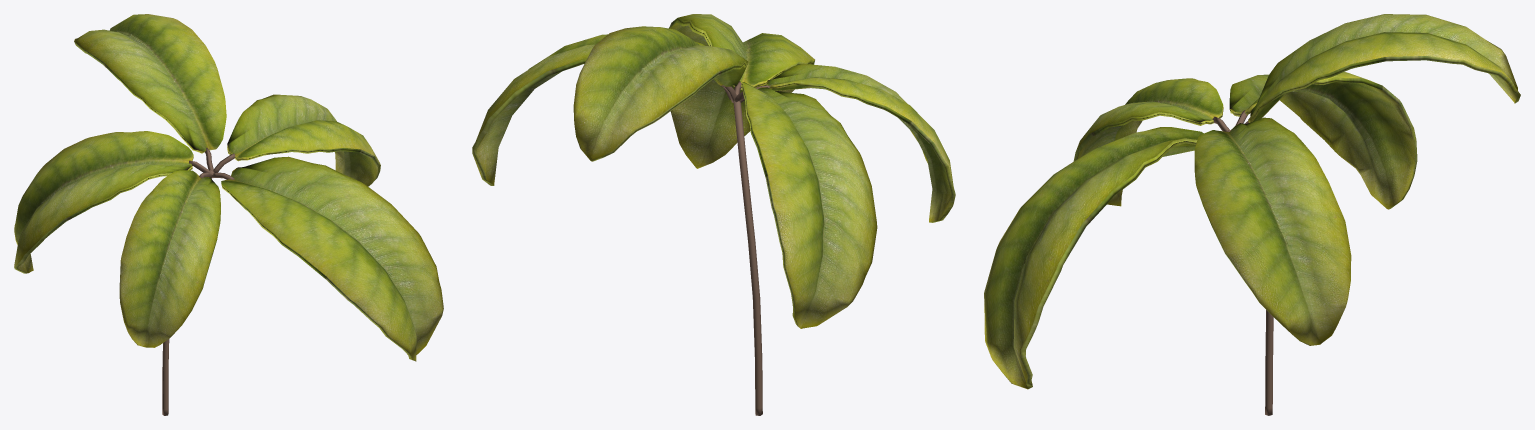
File: Plant1.fbx
The picture shows the model from 3 angles, left to right: view 1: azimuth 30°, elevation 25°; view 2: azimuth 150°, elevation 25°; view 3: azimuth 270°, elevation 25°; orthographic projection. The views are drawn at different scales.
Parts seen in each view (by area): view 1: Cylinder, Cylinder_002, Cylinder_004, Cylinder_003, Cylinder_005, Cylinder_001, Cylinder_006; view 2: Cylinder_003, Cylinder_004, Cylinder, Cylinder_002, Cylinder_005, Cylinder_006; view 3: Cylinder_005, Cylinder, Cylinder_003, Cylinder_004, Cylinder_002, Cylinder_006.
Part boxes in pixels (x1=…): Cylinder: x1=221, y1=156, x2=443, y2=361; Cylinder_002: x1=119, y1=170, x2=220, y2=347; Cylinder_004: x1=74, y1=14, x2=226, y2=153; Cylinder_003: x1=14, y1=131, x2=193, y2=273; Cylinder_005: x1=227, y1=94, x2=380, y2=186; Cylinder_001: x1=189, y1=148, x2=235, y2=179; Cylinder_006: x1=162, y1=170, x2=214, y2=415; Cylinder_003: x1=741, y1=82, x2=877, y2=328; Cylinder_004: x1=573, y1=26, x2=748, y2=161; Cylinder: x1=669, y1=14, x2=814, y2=168; Cylinder_002: x1=766, y1=63, x2=955, y2=222; Cylinder_005: x1=472, y1=34, x2=704, y2=185; Cylinder_006: x1=733, y1=94, x2=762, y2=415; Cylinder_005: x1=1194, y1=117, x2=1351, y2=345; Cylinder: x1=984, y1=127, x2=1203, y2=389; Cylinder_003: x1=1229, y1=72, x2=1417, y2=209; Cylinder_004: x1=1248, y1=14, x2=1520, y2=122; Cylinder_002: x1=1073, y1=78, x2=1223, y2=206; Cylinder_006: x1=1265, y1=310, x2=1273, y2=415.
Bounding box in the file's own units: 8.45 × 8.17 × 9.73.
